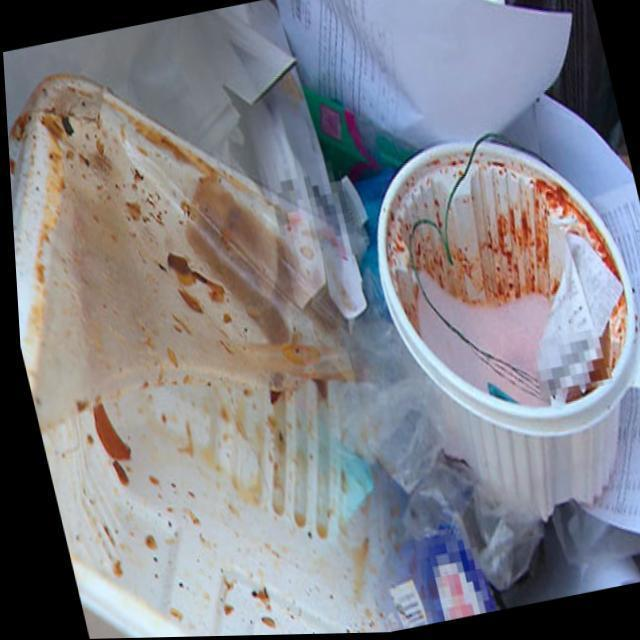disposable: (343, 137, 640, 514)
